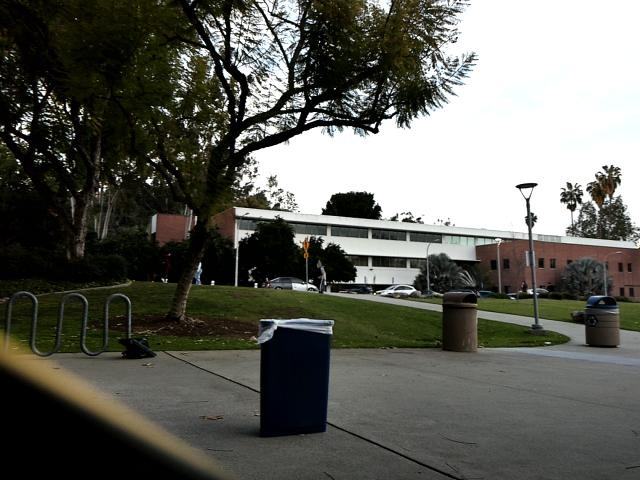trashcan_open: (261, 316, 336, 431)
